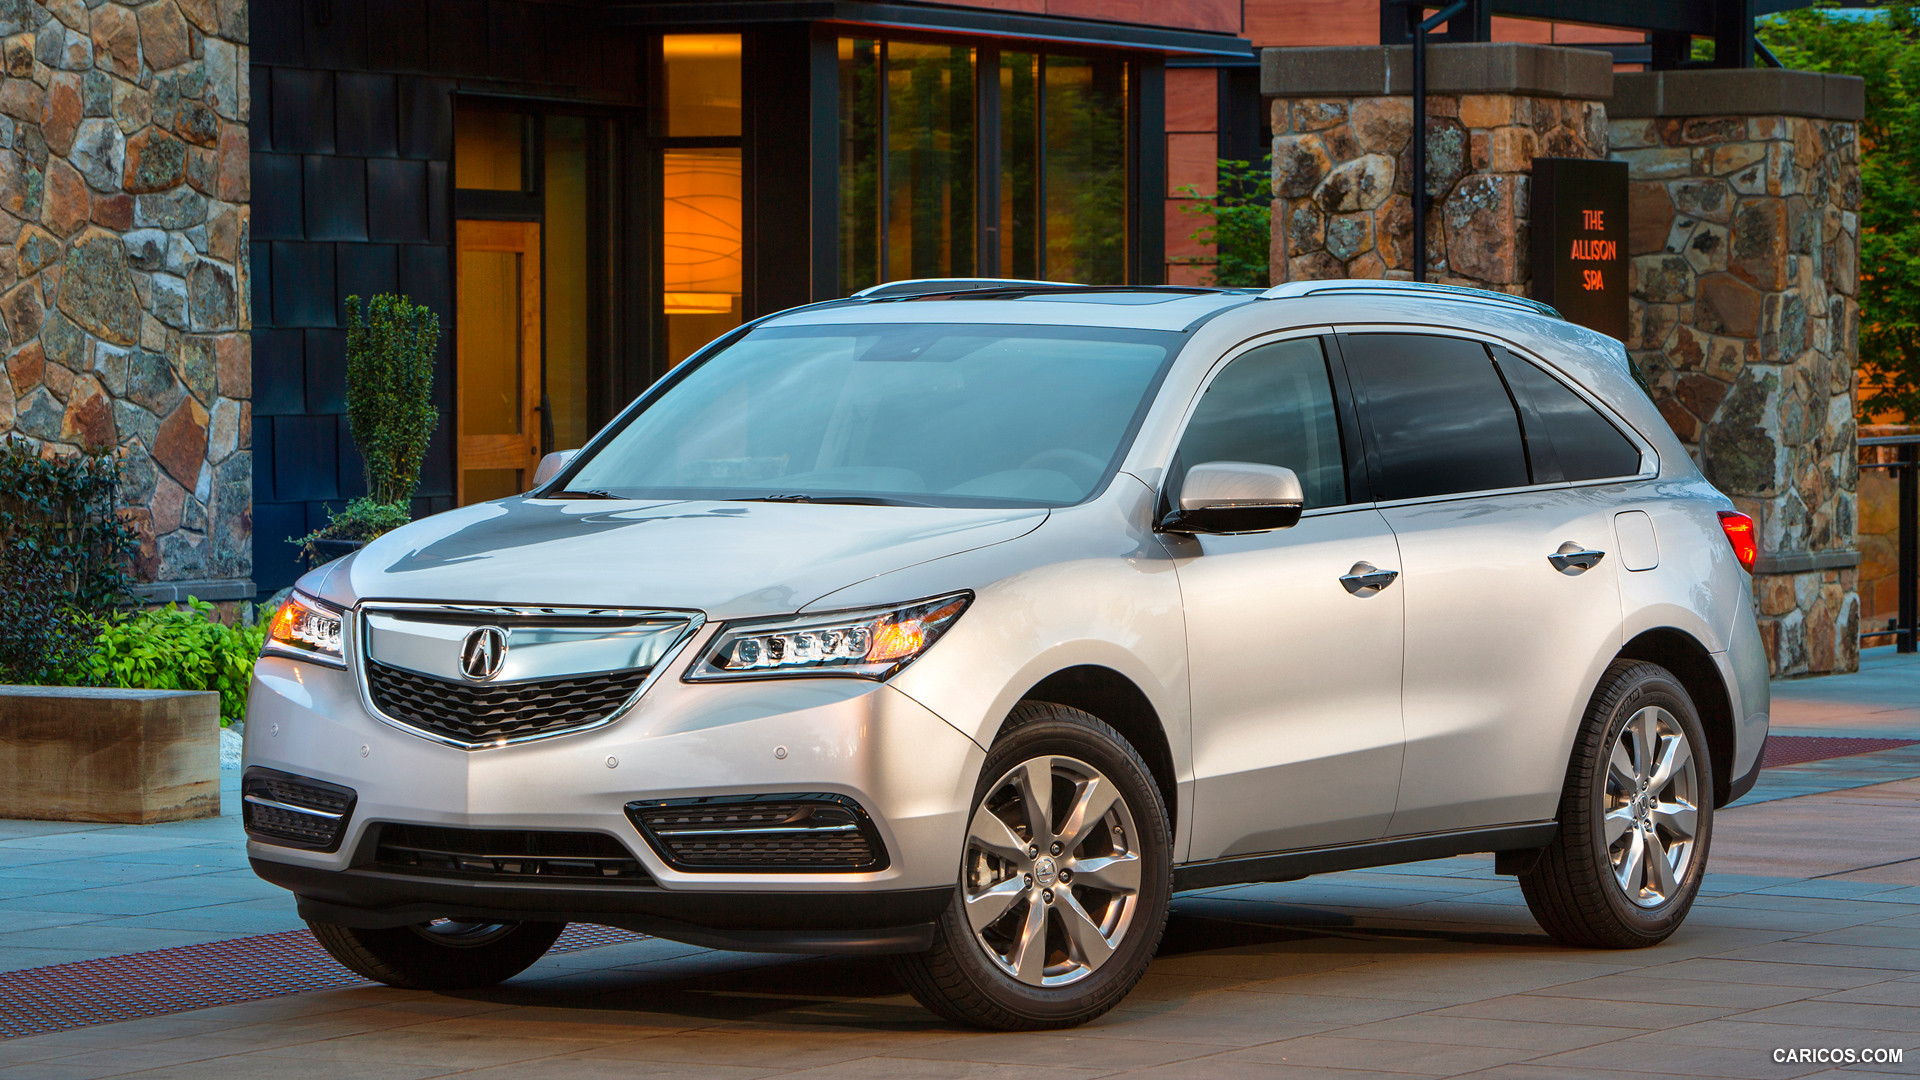Fog Lamp & Scope: (618, 800, 882, 868)
Front: (243, 502, 1089, 897)
Front Bumper: (237, 750, 973, 893)
Grill: (364, 607, 692, 738)
Headlight: (698, 589, 977, 682)
